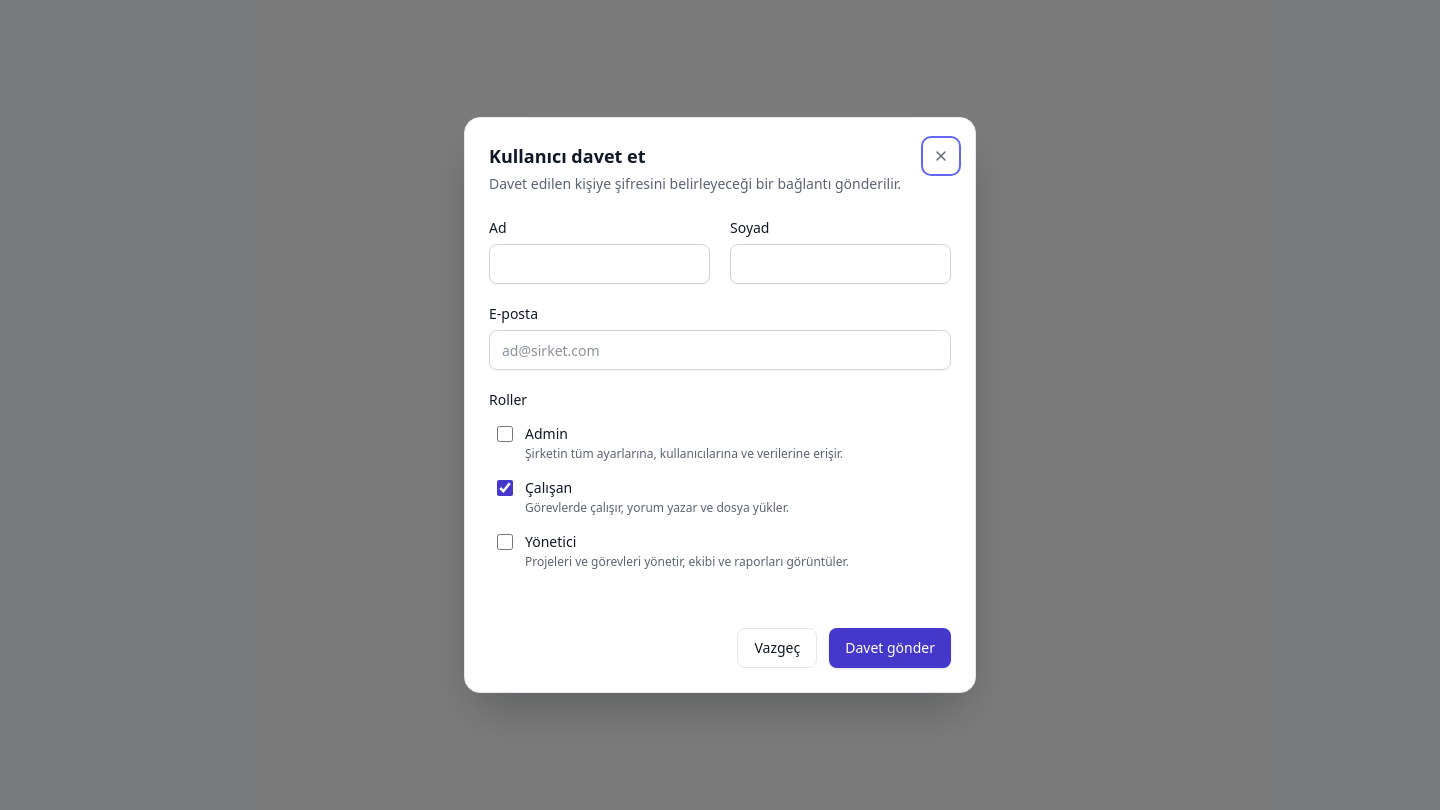
Test case: InviteUserDialog › requires at least one role
Type "Ayşe" into the field labelled "Ad" at (600, 264), box [489,244,710,284]
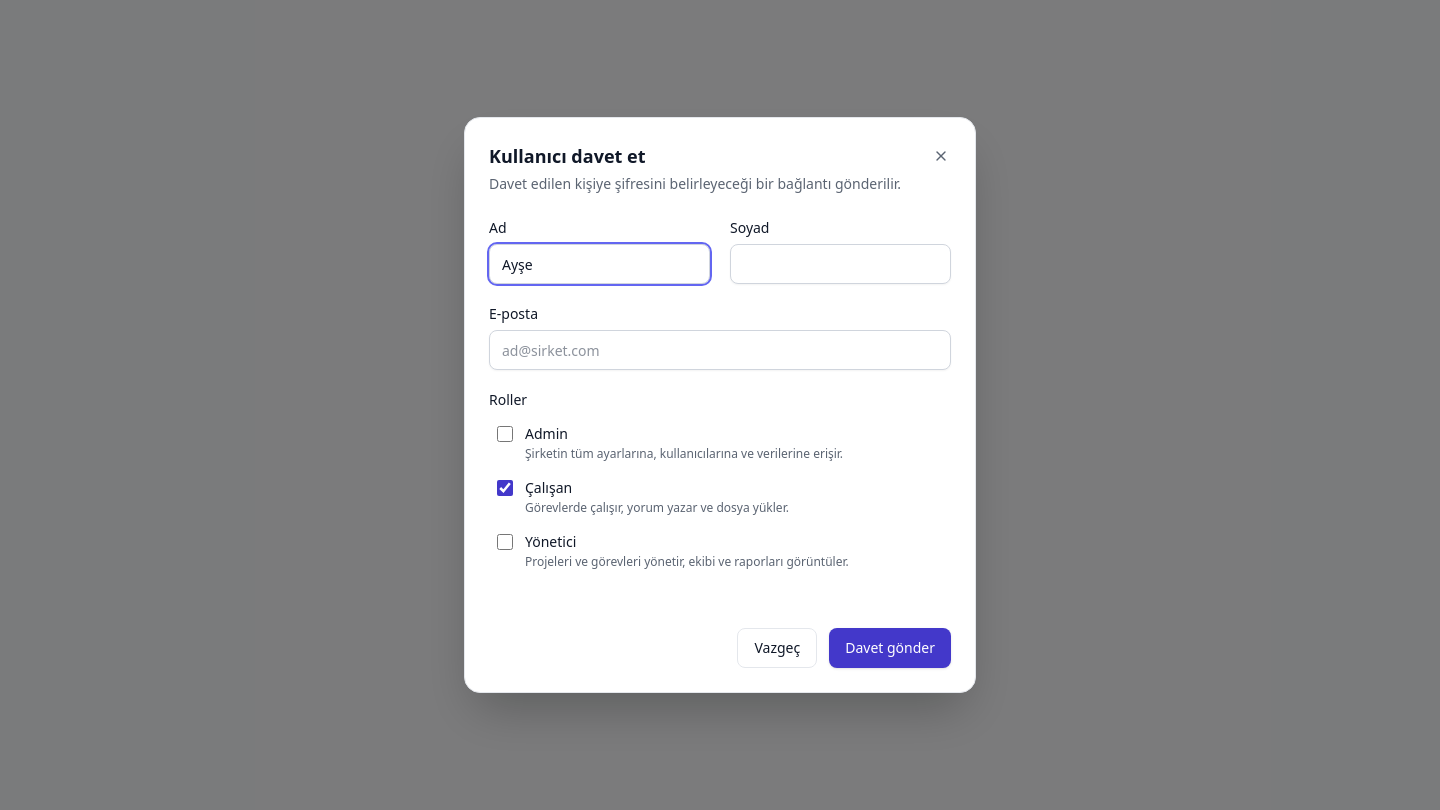
Type "Yılmaz" into the field labelled "Soyad" at (840, 264), box [730,244,951,284]
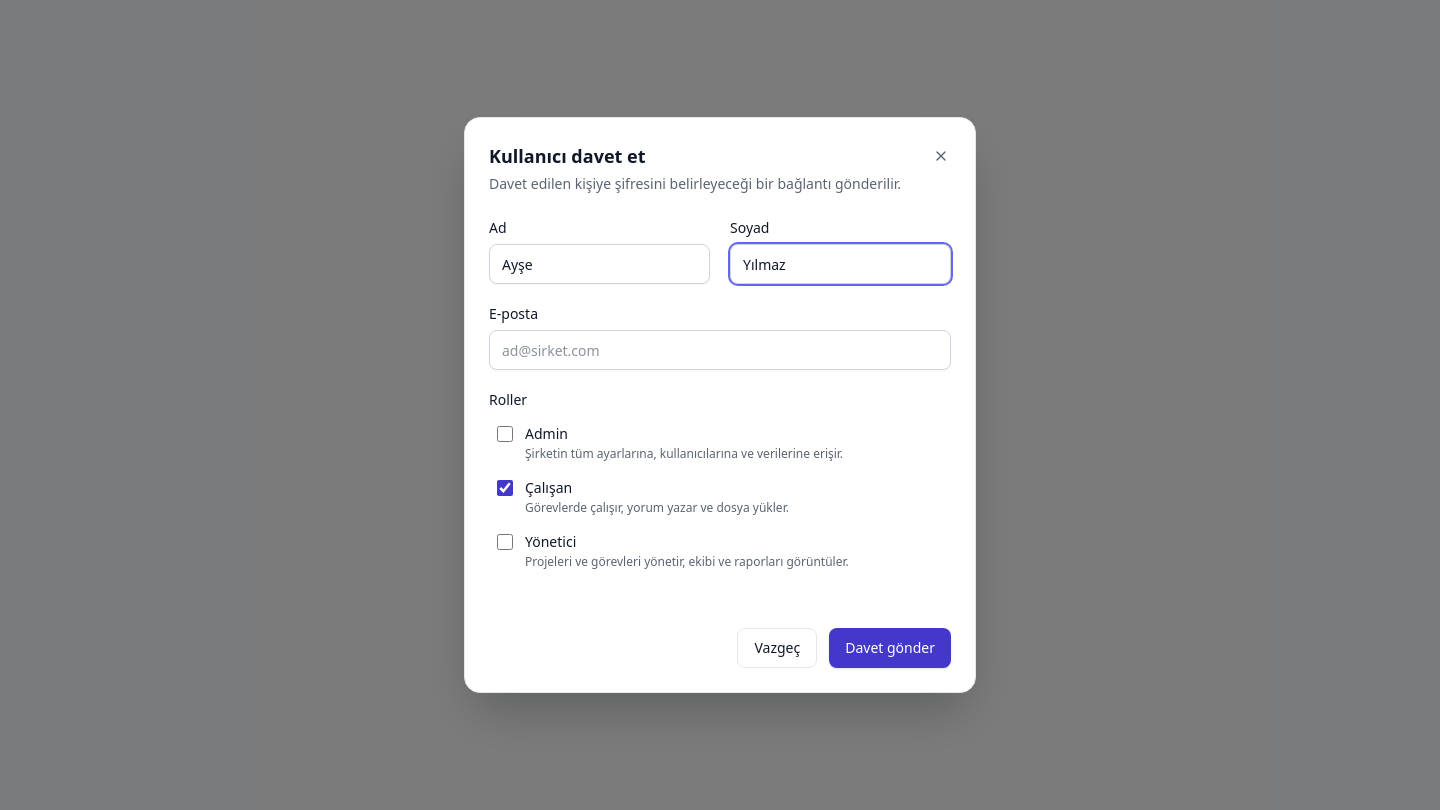
Type "ayse@abc.com" into the field labelled "E-posta" at (720, 350), box [489,330,951,370]
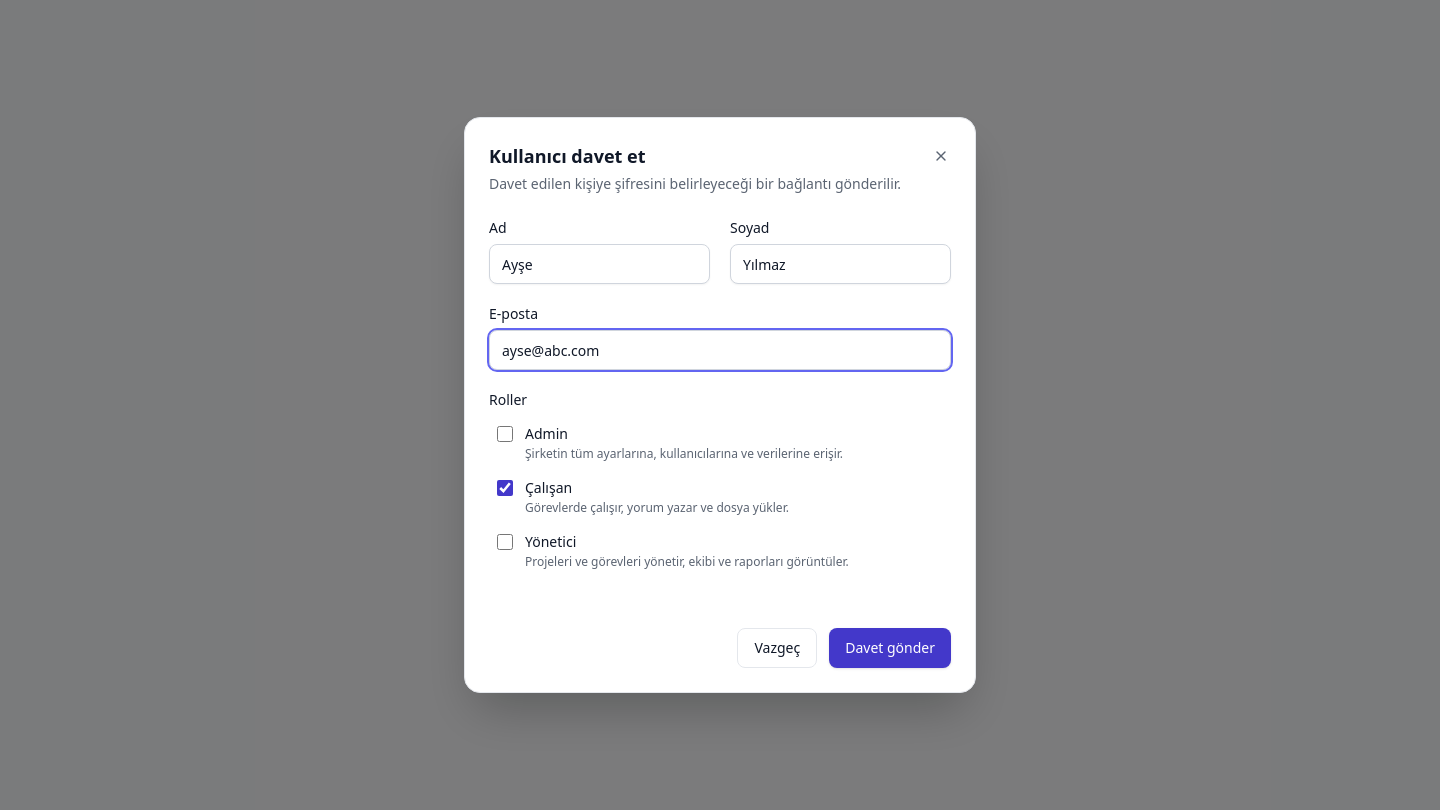
Click the checkbox labelled "Çalışan Görevlerde çalışır, yorum yazar ve dosya yükler." at (505, 488), box [497,480,513,496]
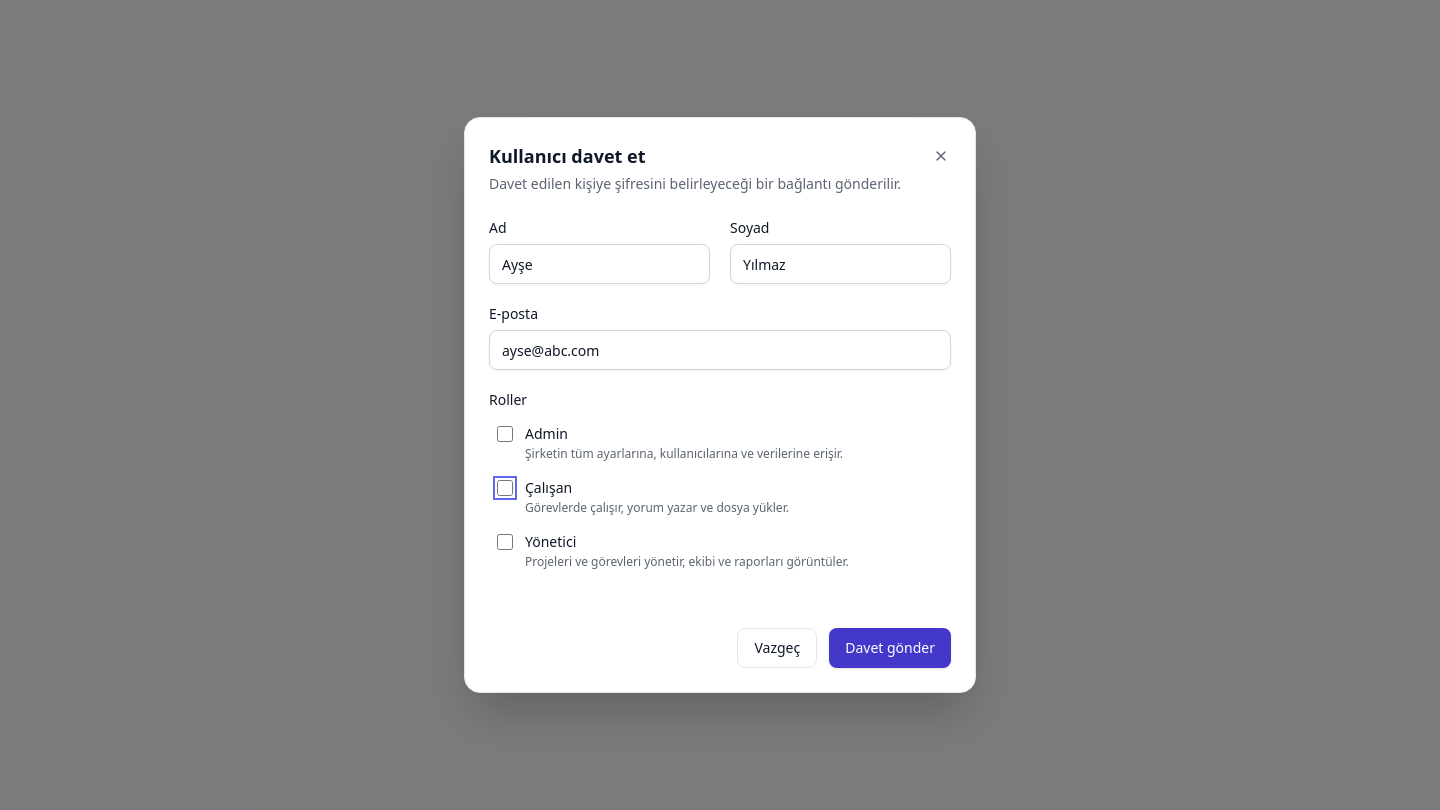
Click the button "Davet gönder" at (890, 648), box [829,628,951,668]
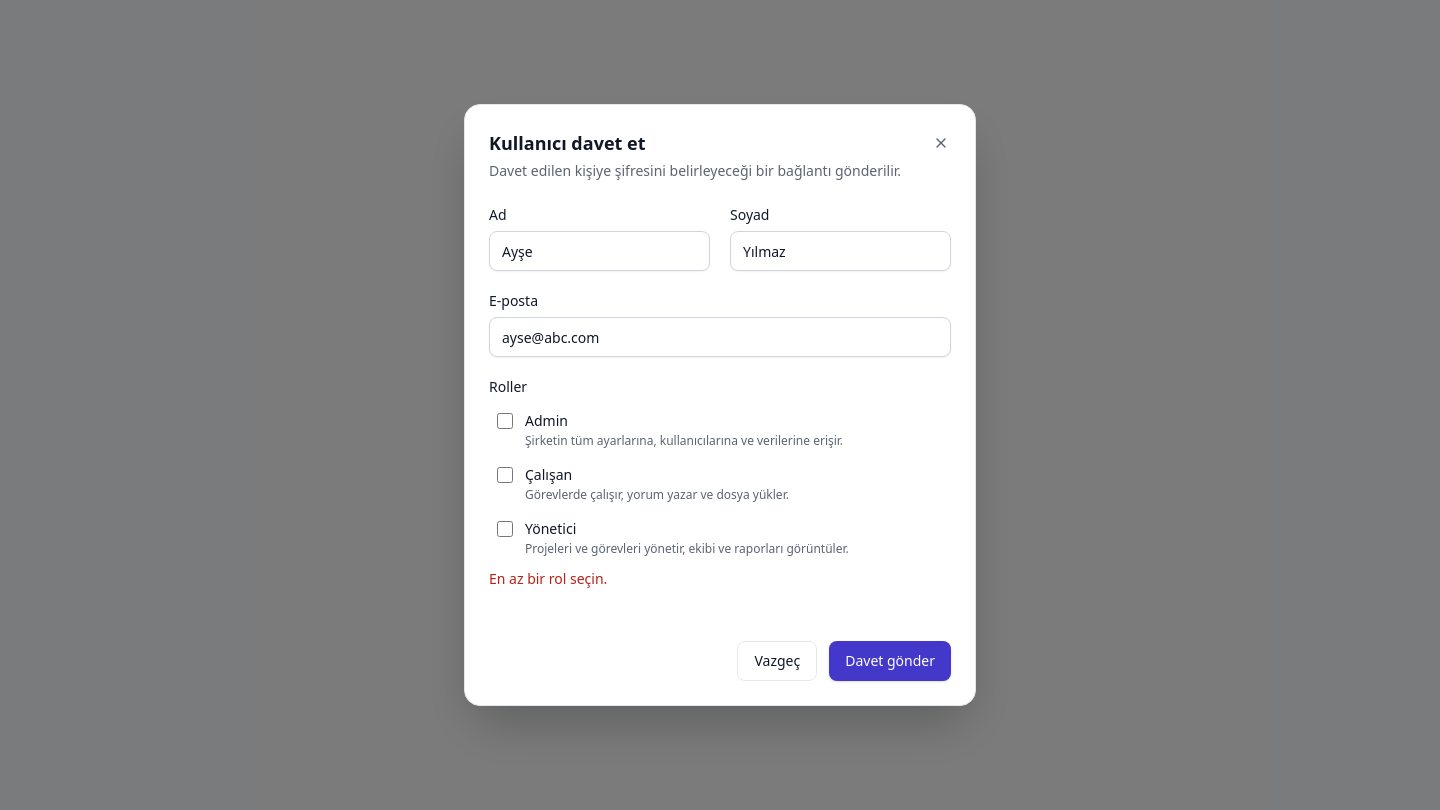
Check: the text "En az bir rol seçin." is shown, box [489,569,607,588]
